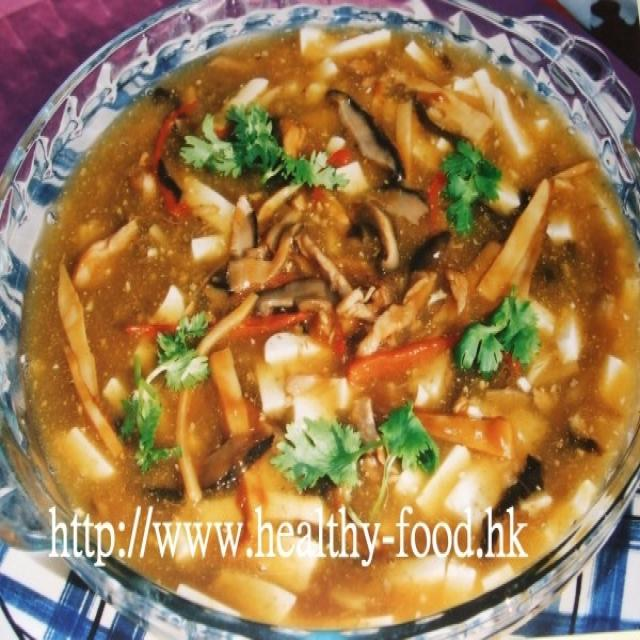豆腐料理: (16, 18, 638, 618)
